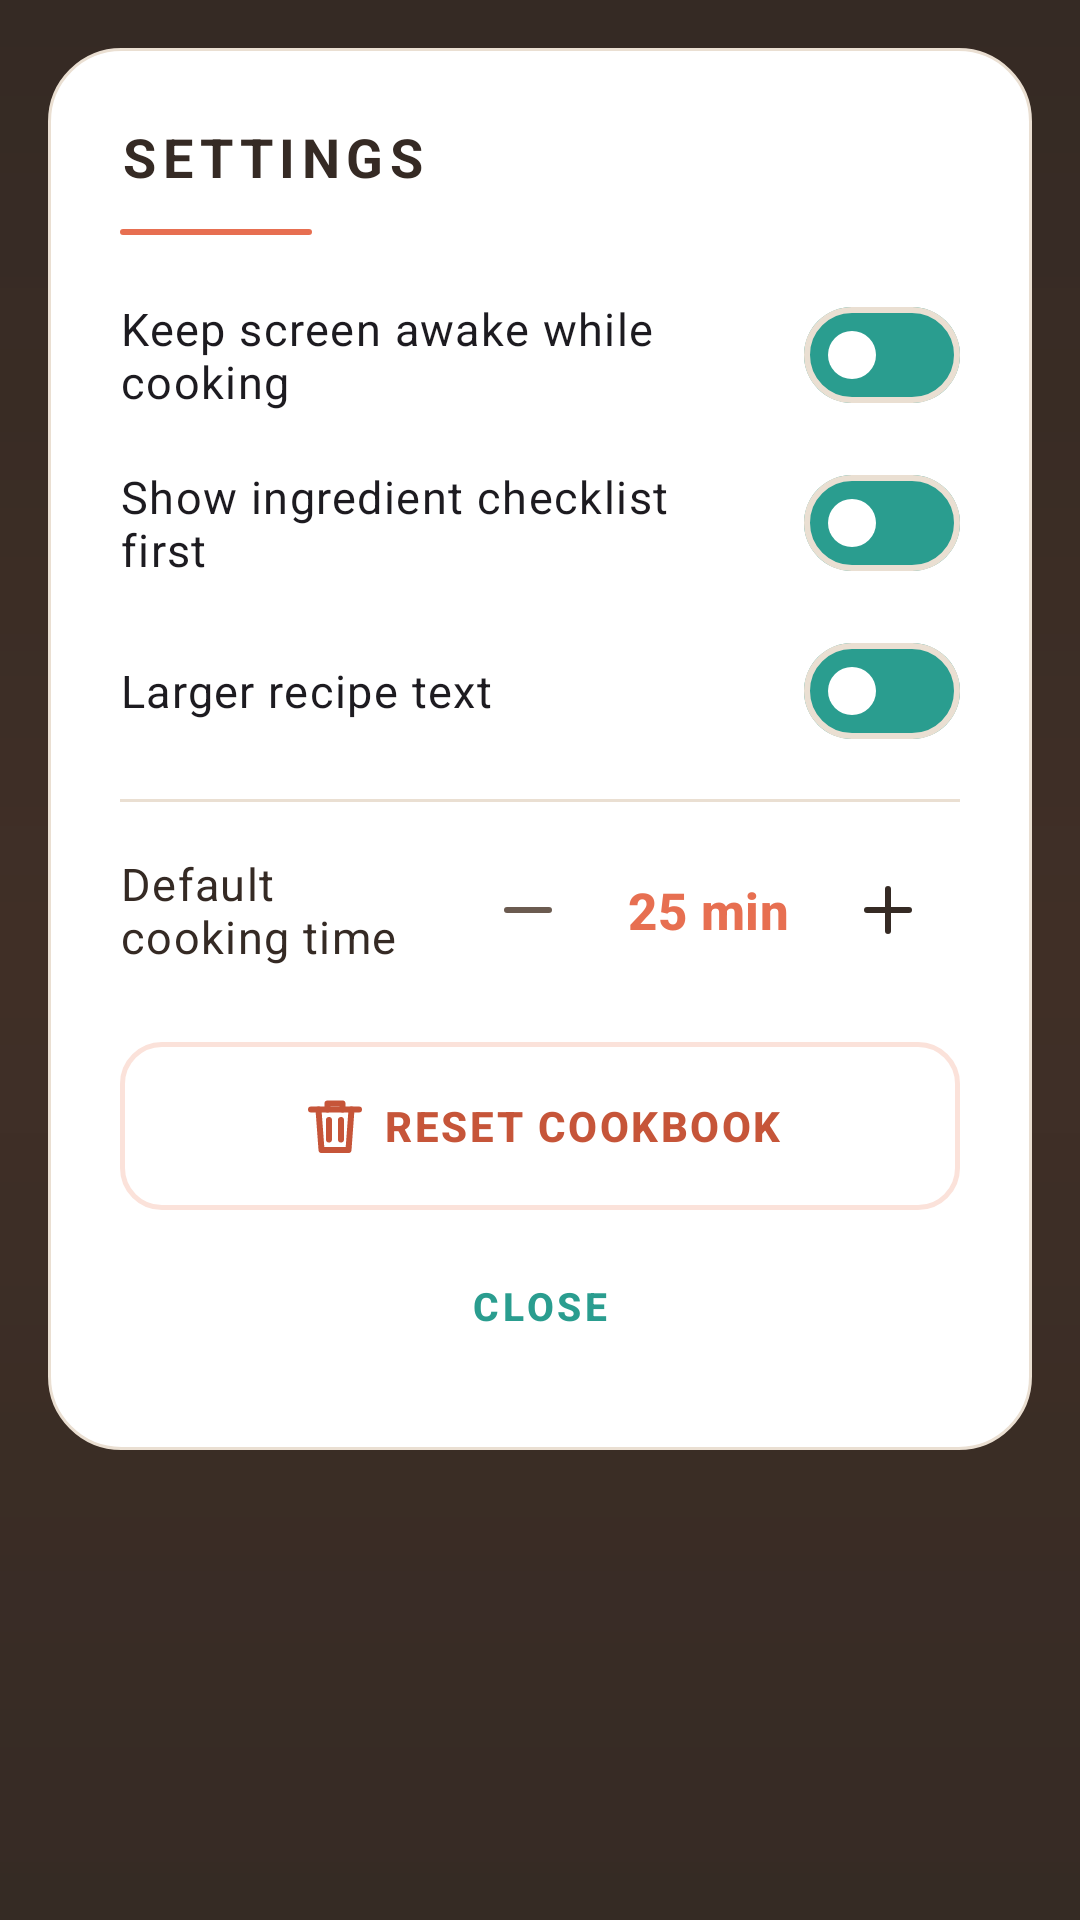

Named icons in this screenshot (1080px x 1920px) and their centers, point (x, y):
Increase cooking time: point (888, 910)
